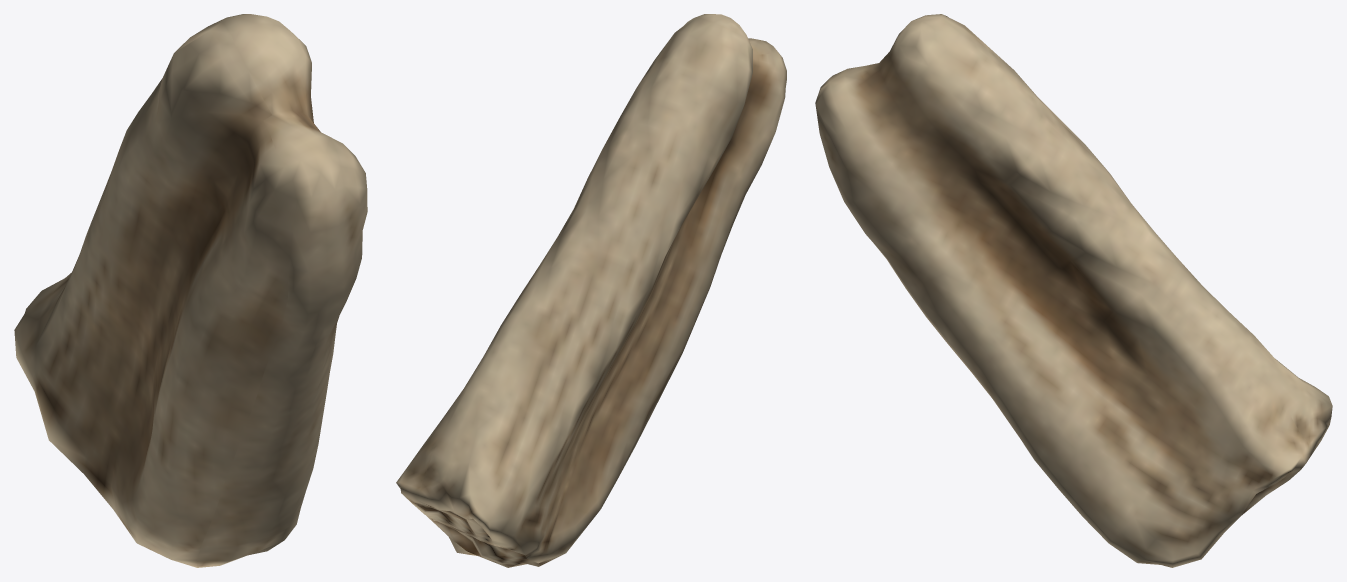
The model's file is Maxilary_Premolar1.glb.
3 renders of one model, left to right at view 1: azimuth 30°, elevation 25°; view 2: azimuth 150°, elevation 25°; view 3: azimuth 270°, elevation 25°, orthographic. The views are drawn at different scales.
Parts seen in each view (by area): view 1: Maxilary_Premolar1.glb; view 2: Maxilary_Premolar1.glb; view 3: Maxilary_Premolar1.glb.
Boxes of the visible parts, box(x1,y1,x2,y2) form: Maxilary_Premolar1.glb: box(14, 14, 367, 567); Maxilary_Premolar1.glb: box(396, 14, 786, 567); Maxilary_Premolar1.glb: box(815, 14, 1332, 567).
Bounding box in the file's own units: 0.0274 × 0.0683 × 0.0646.
Materials: 1 (1 with a texture image).
